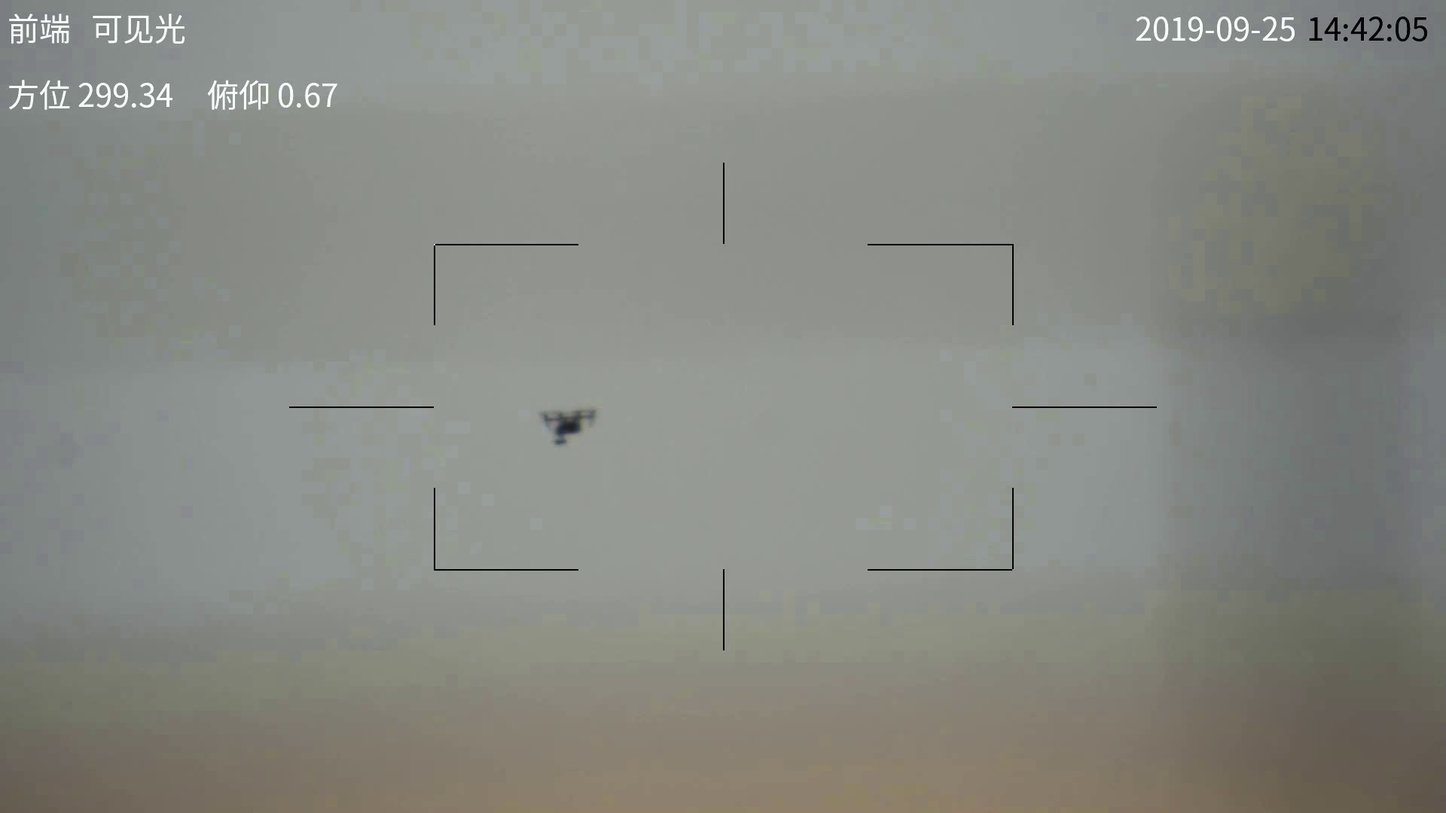drone: (529, 406, 608, 450)
